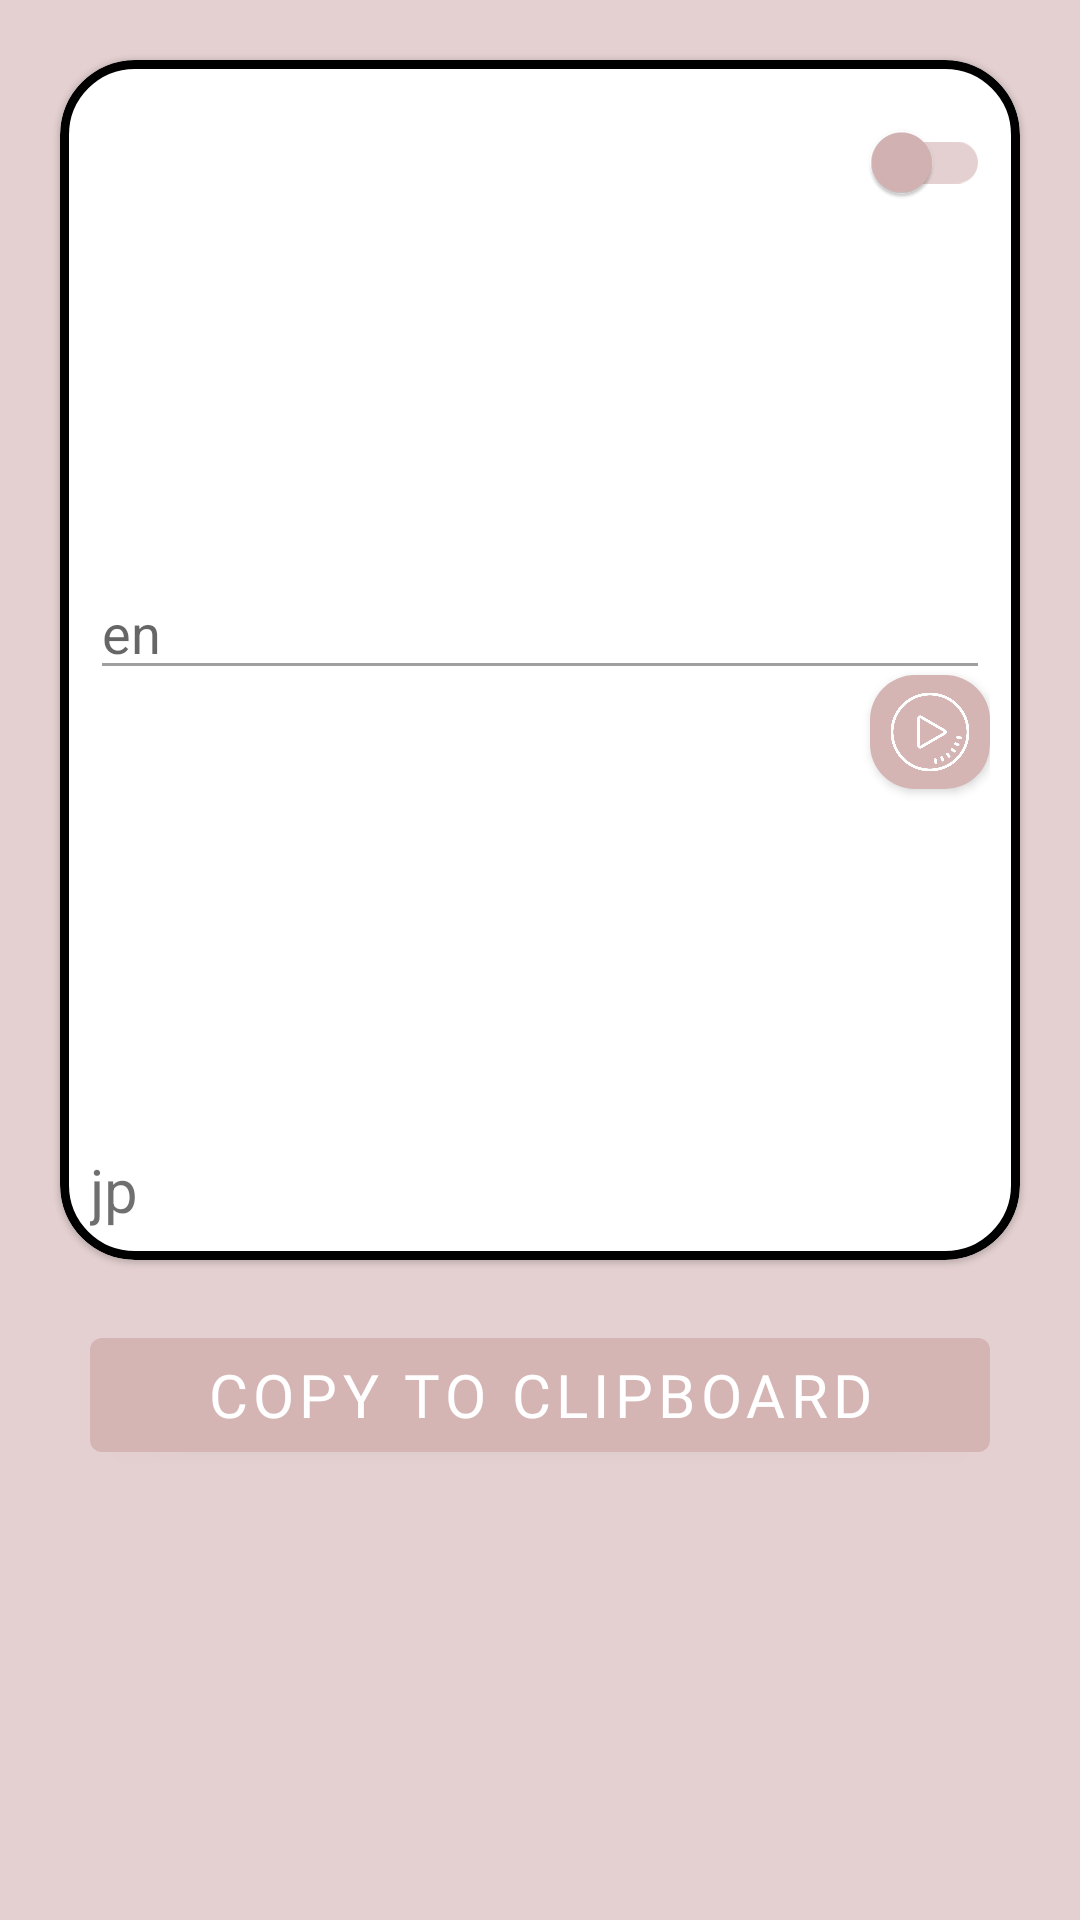

Named icons in this screenshot (1080×1920) and their centers, (x=x, y=y):
play: (x=930, y=732)
